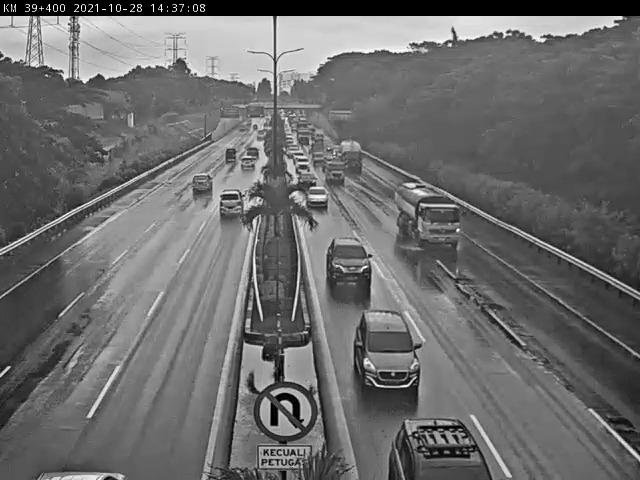car: (379, 399, 501, 480), (353, 305, 430, 397), (319, 234, 377, 301), (215, 189, 245, 222), (305, 186, 331, 211), (189, 173, 215, 197), (296, 169, 318, 189), (221, 145, 240, 165), (292, 152, 311, 172), (244, 145, 262, 163), (237, 156, 256, 172), (311, 148, 327, 165)
small truck: (394, 176, 464, 257), (336, 137, 365, 174)
